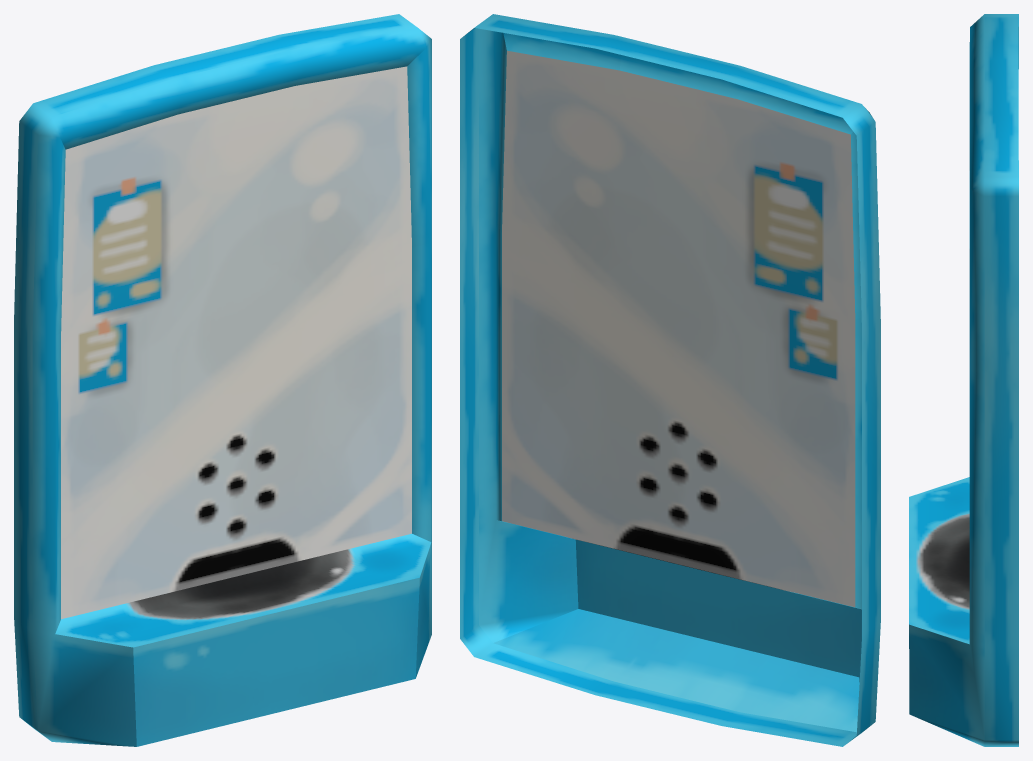
The model's file is guichet.fbx.
3 views of the same model, side by side, from view 1: azimuth 30°, elevation 25°; view 2: azimuth 150°, elevation 25°; view 3: azimuth 270°, elevation 25° (orthographic). The views are drawn at different scales.
Visible parts, largest first — view 1: guichet; view 2: guichet; view 3: guichet.
Boxes of the visible parts, x1,y1,x2,y2 form: guichet: (14, 14, 431, 746); guichet: (460, 14, 880, 746); guichet: (909, 14, 1018, 746).
Bounding box in the file's own units: 59.81 × 91.95 × 15.62.
